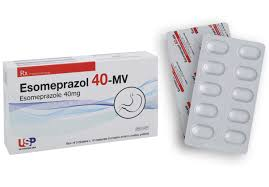Esomeprazol: (20, 82, 89, 91)
